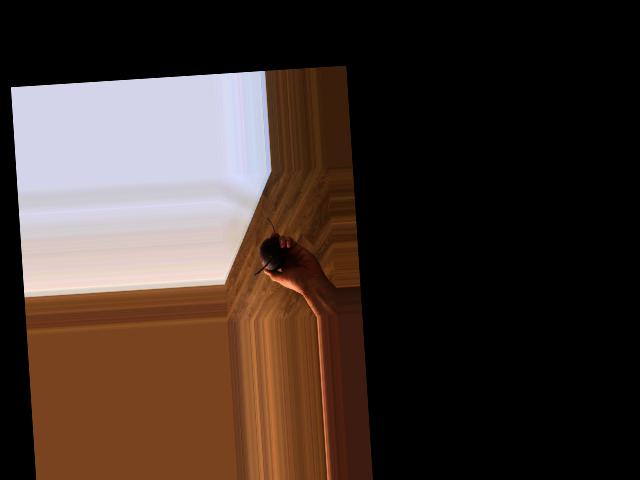beet: (251, 216, 286, 274)
